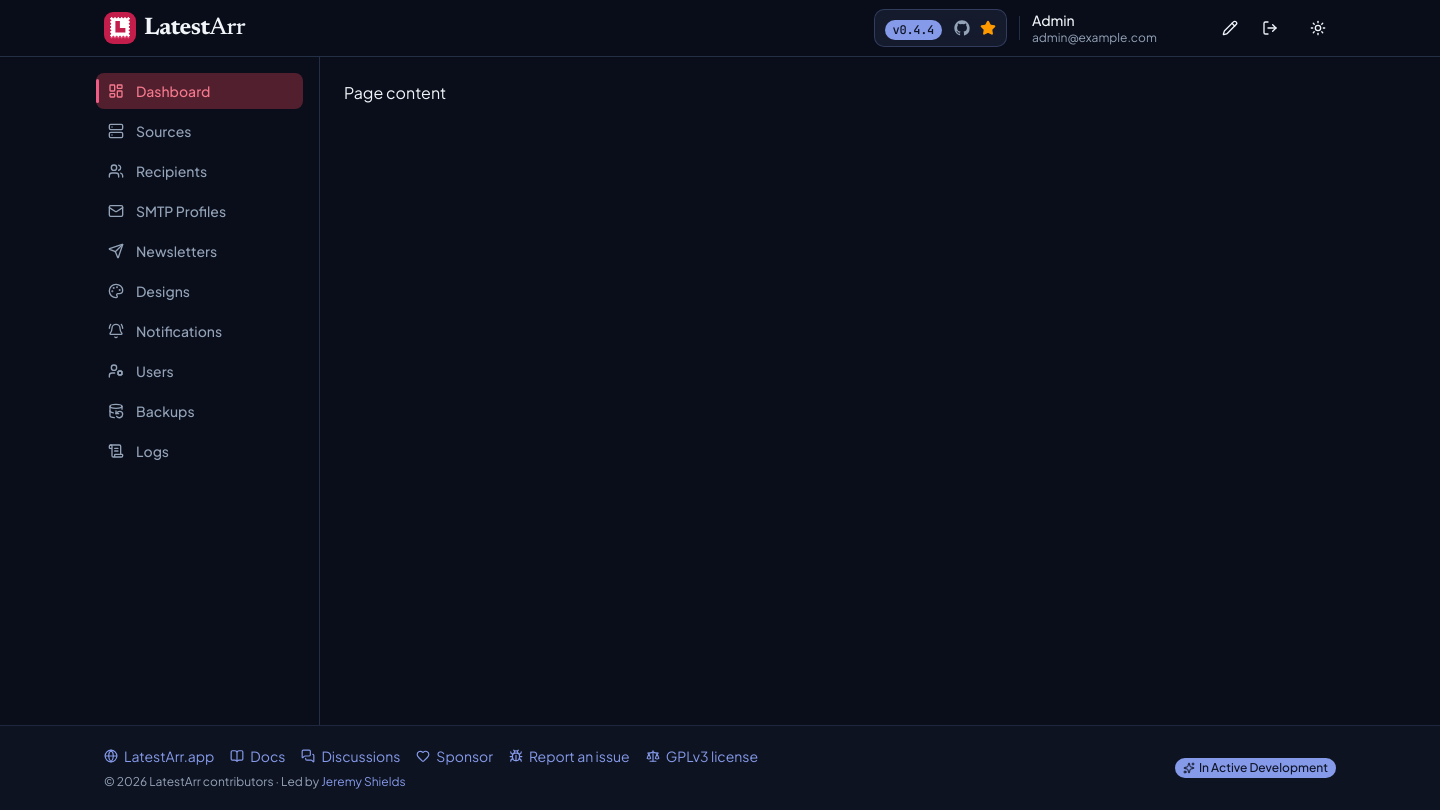
AppShell › rejects a password change in the dialog when only one of the two password fields is filled
Expected: the text "Admin" is shown, [1032, 10, 1075, 30]
Click the button named "Edit profile". click: [1230, 28]
box: [1212, 10, 1248, 46]
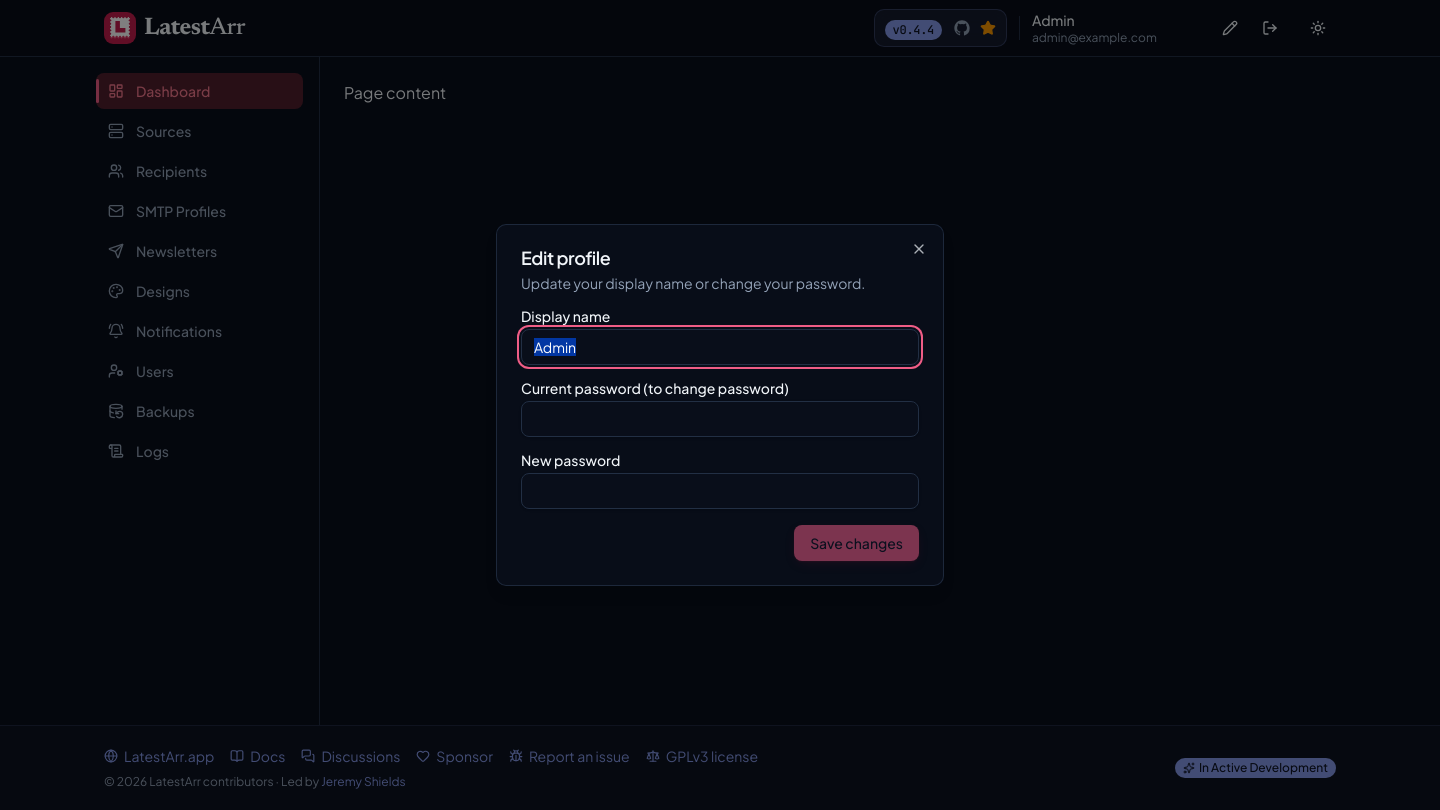
Type "a-new-password" into the password field labelled "New password". click: [720, 491]
box: [521, 473, 919, 509]
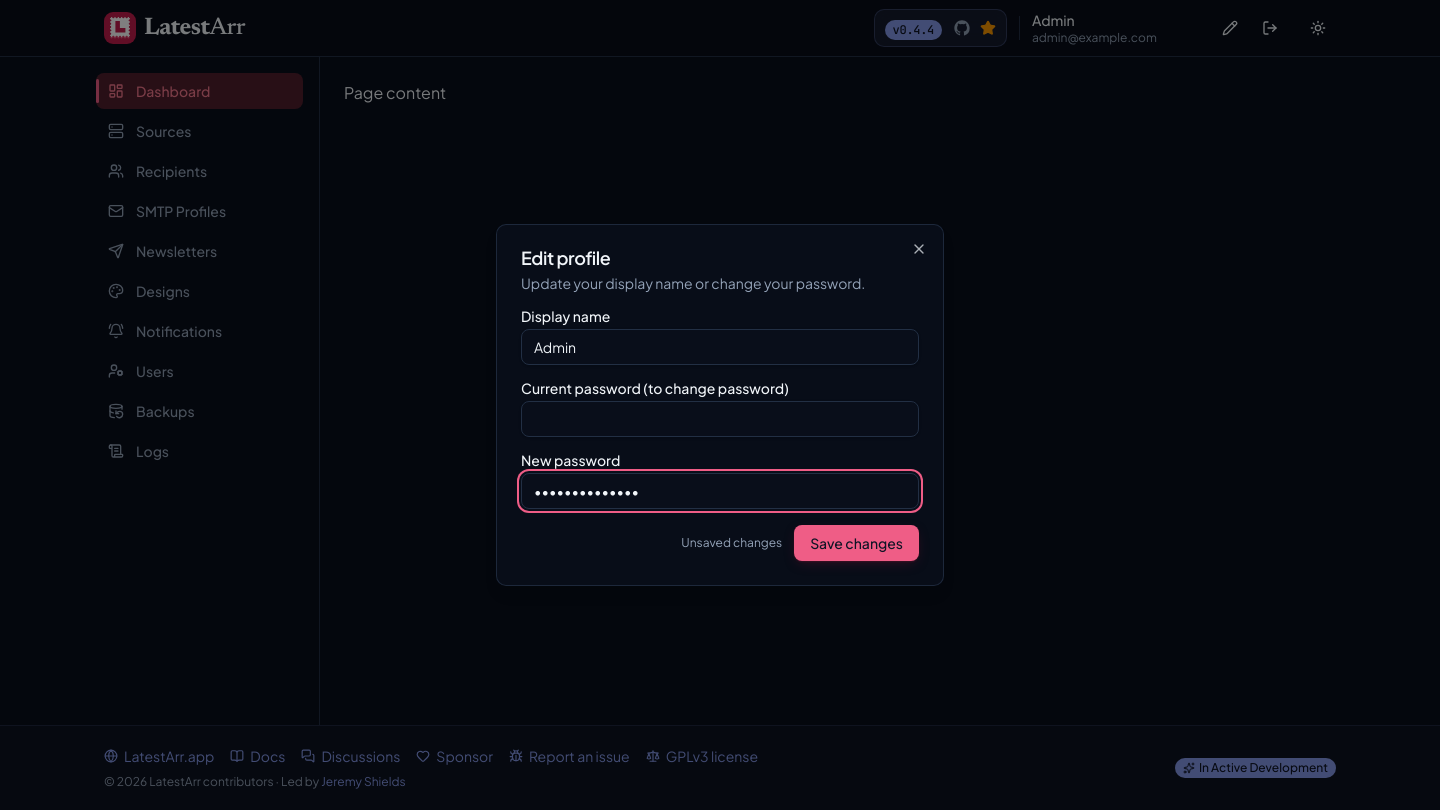
Click the button "Save changes". click: [857, 543]
box: [794, 525, 919, 561]
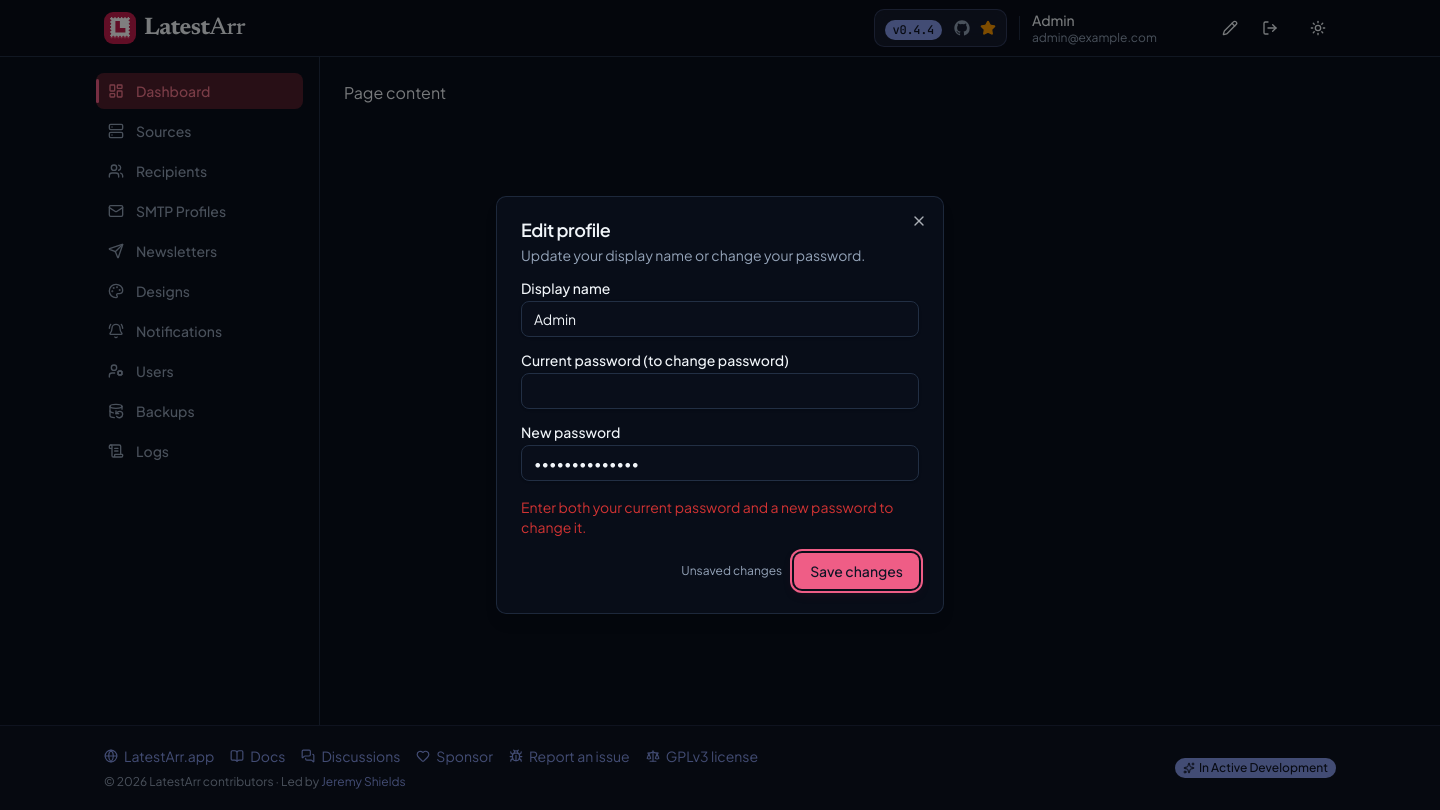
Now the text "Enter both your current password and a new password to change it." is shown, box [521, 497, 919, 537]
